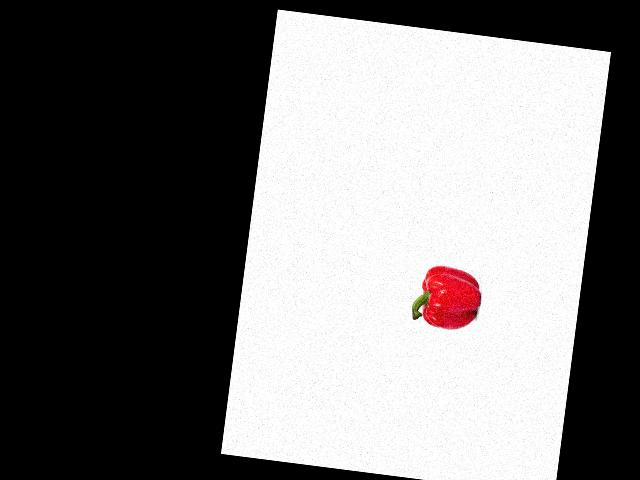bell_pepper: (408, 258, 484, 334)
